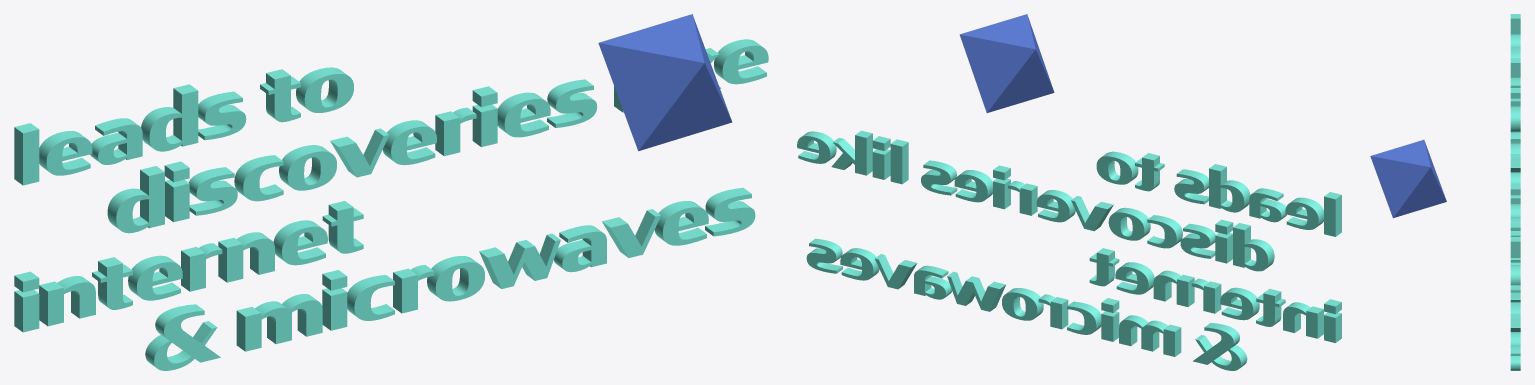
The model's file is asset.gltf.
3 renders of one model, left to right at view 1: azimuth 30°, elevation 25°; view 2: azimuth 150°, elevation 25°; view 3: azimuth 270°, elevation 25°, orthographic. The views are drawn at different scales.
Visible parts, largest first — view 1: Extrude.1, Pyramid; view 2: Extrude.1, Pyramid; view 3: Extrude.1, Pyramid.
Boxes of the visible parts, <box> form: Extrude.1: <box>14,39,768,370</box>; Pyramid: <box>598,14,732,151</box>; Extrude.1: <box>797,130,1341,370</box>; Pyramid: <box>959,14,1054,112</box>; Extrude.1: <box>1510,14,1520,370</box>; Pyramid: <box>1370,139,1446,218</box>.
Size of the model in its own units: 1479 by 564 by 452.
